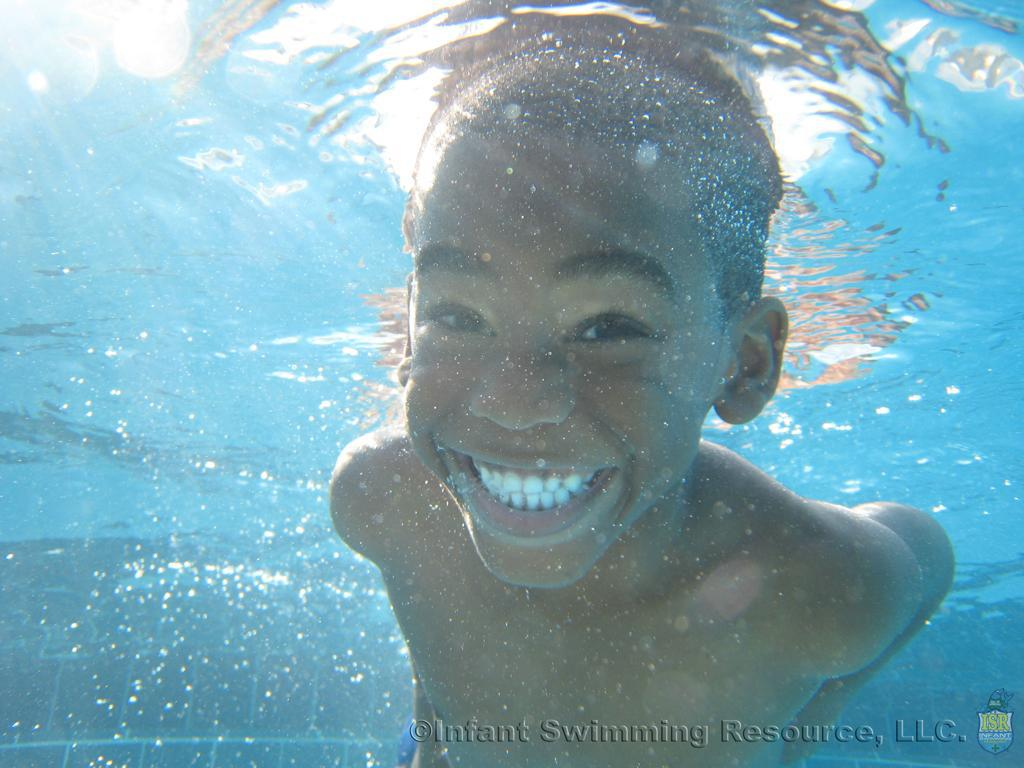face: (417, 185, 705, 583)
